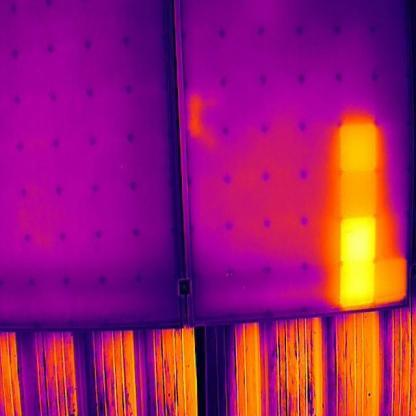anomaly: (330, 118, 413, 314)
